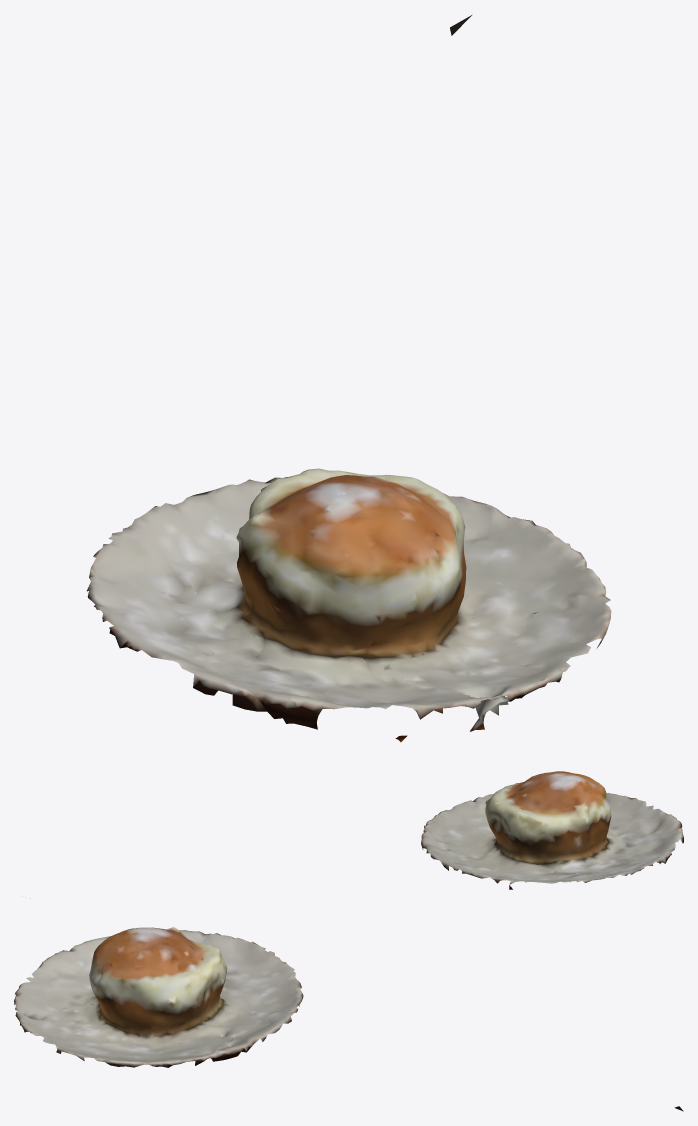
Rendered from laskiaispulla3.obj.
The picture shows the model from 3 angles, top to bottom: view 1: azimuth 30°, elevation 25°; view 2: azimuth 150°, elevation 25°; view 3: azimuth 270°, elevation 25°; orthographic projection. The views are drawn at different scales.
Parts seen in each view (by area): view 1: Group_Global; view 2: Group_Global; view 3: Group_Global.
Part boxes in pixels (<box>): Group_Global: <box>87,15,611,742</box>; Group_Global: <box>421,771,683,889</box>; Group_Global: <box>14,927,683,1111</box>.
Bounding box in the file's own units: 1.53 × 0.2883 × 1.94.
